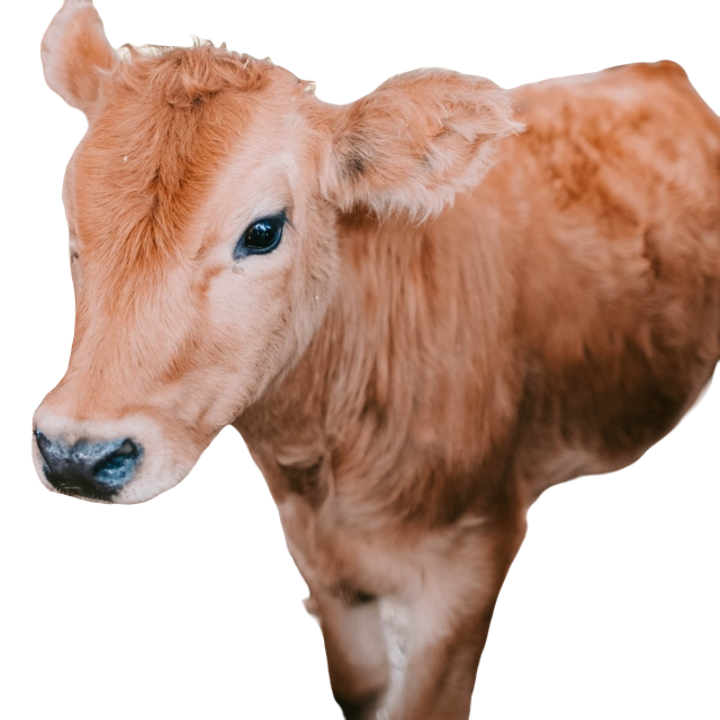Cow: (27, 2, 719, 719)
